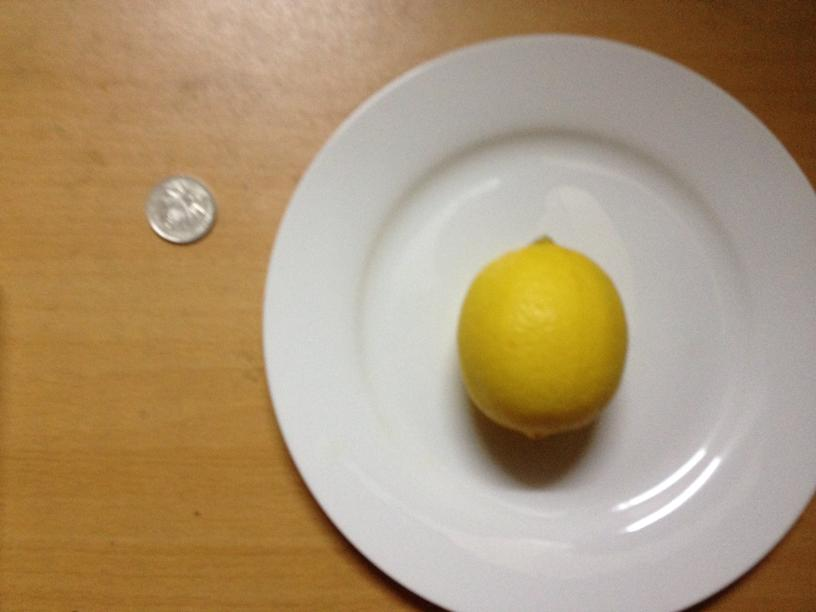coin: (147, 174, 216, 243)
lemon: (457, 242, 626, 432)
